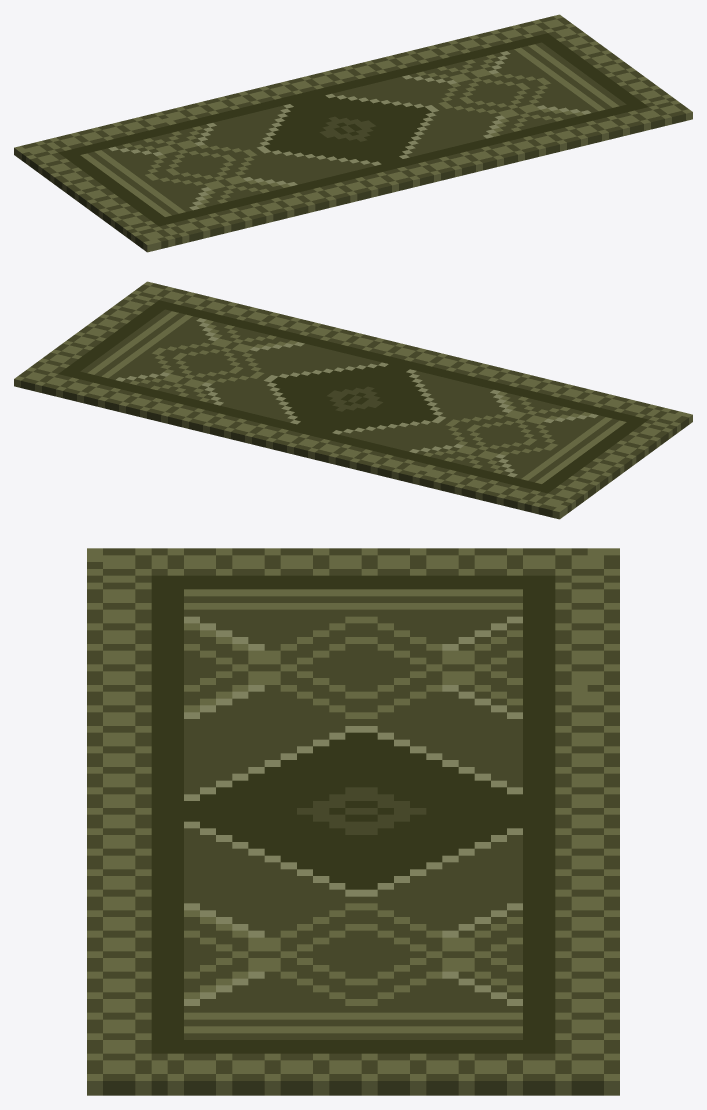
The model's file is Tapis chambre 1.obj.
The picture shows the model from 3 angles, top to bottom: view 1: azimuth 30°, elevation 25°; view 2: azimuth 150°, elevation 25°; view 3: azimuth 270°, elevation 25°; orthographic projection. The views are drawn at different scales.
Parts seen in each view (by area): view 1: Tapis chambre 1; view 2: Tapis chambre 1; view 3: Tapis chambre 1.
Boxes of the visible parts, x1,y1,x2,y2 form: Tapis chambre 1: (14, 14, 692, 252); Tapis chambre 1: (14, 281, 692, 519); Tapis chambre 1: (87, 548, 619, 1095).
Bounding box in the file's own units: 78 × 1 × 33.
1 material, 1 textured.
